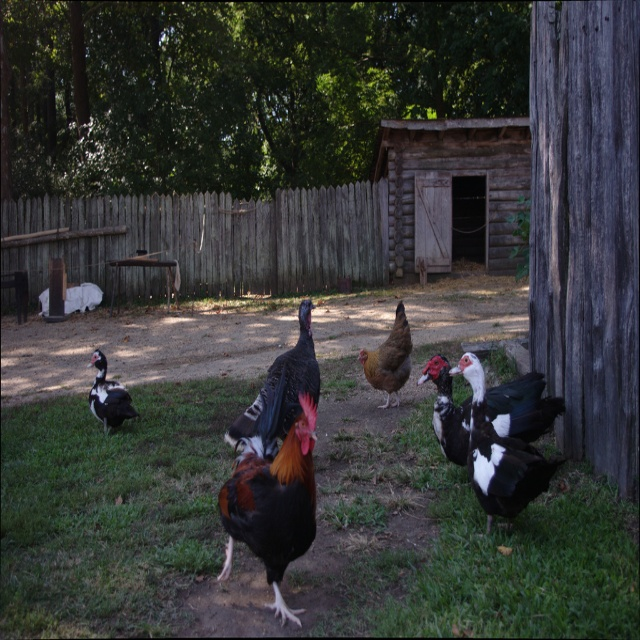Chicken: (215, 394, 321, 620), (352, 298, 416, 416)
